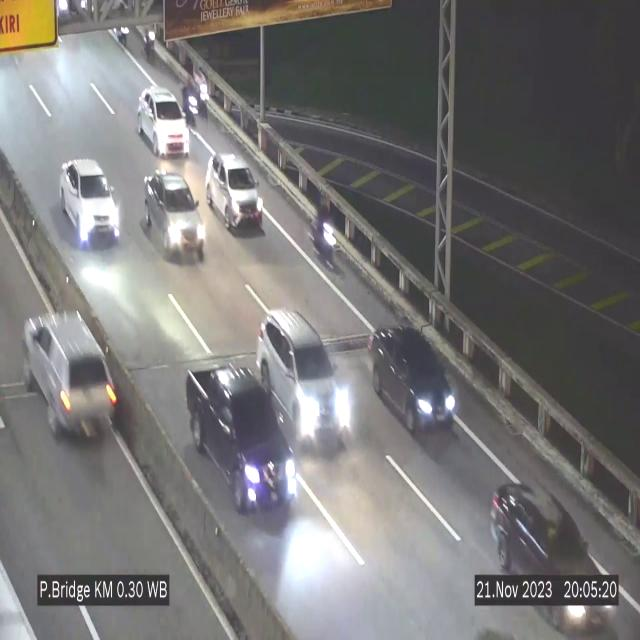Car: (477, 466, 622, 640), (19, 286, 129, 454), (188, 363, 298, 518), (257, 306, 349, 452), (368, 328, 456, 436), (144, 164, 204, 261), (60, 158, 120, 246), (206, 152, 264, 231), (137, 87, 189, 156)
Motorcycle: (312, 204, 338, 272), (138, 12, 158, 64), (183, 76, 199, 132), (196, 66, 210, 120), (112, 10, 130, 52)
